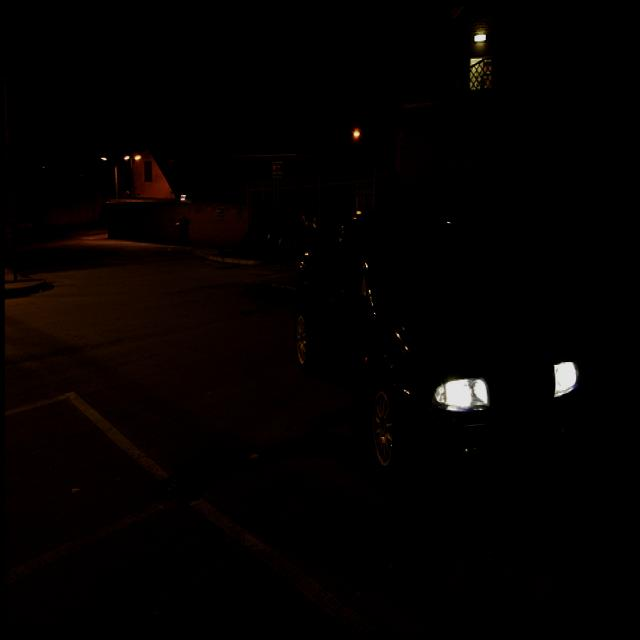Car: (293, 213, 587, 481)
